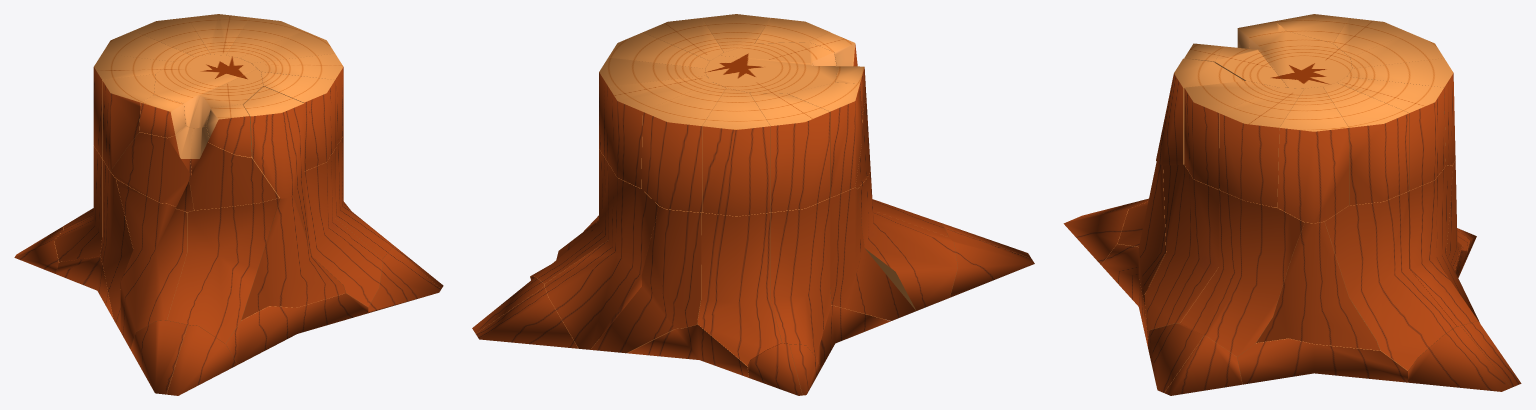
The model's file is Souche_Fracturee.fbx.
3 renders of one model, left to right at view 1: azimuth 30°, elevation 25°; view 2: azimuth 150°, elevation 25°; view 3: azimuth 270°, elevation 25°, orthographic. The views are drawn at different scales.
Parts seen in each view (by area): view 1: buche_cell.031, buche_cell.032, buche_cell.029, buche_cell.030, buche_cell.013, buche_cell.039, buche_cell.038, buche_cell.012, buche_cell.011, buche_cell.036, buche_cell.019, buche_cell.033 (+17 smaller); view 2: buche_cell.035, buche_cell.025, buche_cell.024, buche_cell.034, buche_cell.023, buche_cell.001, buche_cell.021, buche_cell.032, buche_cell.033, buche_cell.003, buche_cell.019, buche_cell.036 (+18 smaller); view 3: buche_cell.026, buche_cell.028, buche_cell.029, buche_cell.007, buche_cell.027, buche_cell.005, buche_cell.009, buche_cell.025, buche_cell.006, buche_cell.003, buche_cell.011, buche_cell.036 (+17 smaller).
Part boxes in pixels (<box>): buche_cell.031: <box>167,198,280,343</box>; buche_cell.032: <box>116,179,187,348</box>; buche_cell.029: <box>293,149,382,306</box>; buche_cell.030: <box>241,195,345,320</box>; buche_cell.013: <box>243,86,304,198</box>; buche_cell.039: <box>110,125,194,212</box>; buche_cell.038: <box>189,126,279,210</box>; buche_cell.012: <box>225,293,368,364</box>; buche_cell.011: <box>261,71,335,170</box>; buche_cell.036: <box>154,54,256,128</box>; buche_cell.019: <box>102,74,155,170</box>; buche_cell.033: <box>100,159,133,331</box>; buche_cell.035: <box>697,212,781,365</box>; buche_cell.025: <box>544,164,659,349</box>; buche_cell.024: <box>590,206,701,353</box>; buche_cell.034: <box>770,198,831,356</box>; buche_cell.023: <box>702,88,770,216</box>; buche_cell.001: <box>641,82,725,212</box>; buche_cell.021: <box>749,93,829,212</box>; buche_cell.032: <box>857,171,957,310</box>; buche_cell.033: <box>830,188,915,320</box>; buche_cell.003: <box>608,75,712,188</box>; buche_cell.019: <box>787,82,862,197</box>; buche_cell.036: <box>705,55,837,93</box>; buche_cell.026: <box>1324,191,1456,370</box>; buche_cell.028: <box>1180,190,1304,356</box>; buche_cell.029: <box>1145,164,1218,341</box>; buche_cell.007: <box>1277,86,1348,223</box>; buche_cell.027: <box>1256,221,1380,350</box>; buche_cell.005: <box>1323,82,1409,205</box>; buche_cell.009: <box>1219,87,1303,207</box>; buche_cell.025: <box>1409,165,1479,326</box>; buche_cell.006: <box>1237,338,1407,384</box>; buche_cell.003: <box>1337,77,1445,190</box>; buche_cell.011: <box>1184,81,1278,189</box>; buche_cell.036: <box>1249,31,1352,88</box>.
Size of the model in its own units: 364 by 224 by 394.
